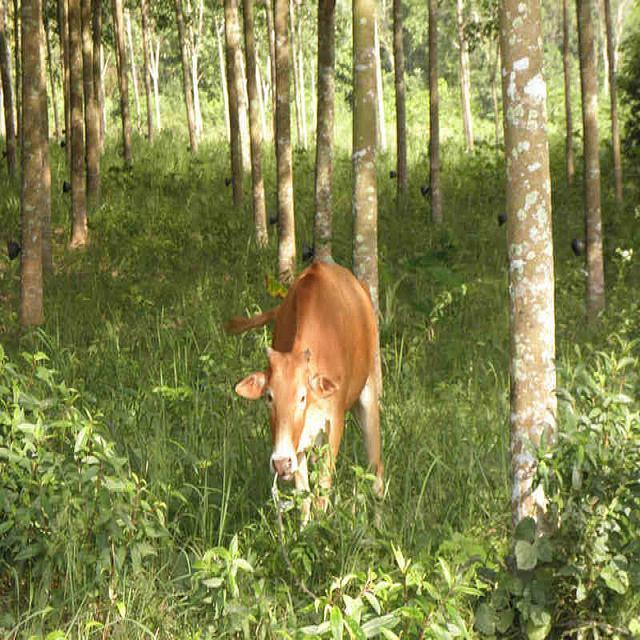cow: (232, 257, 384, 516)
